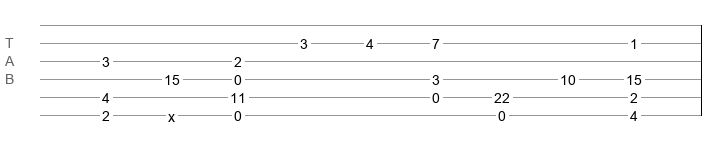0: (234, 108, 242, 118), (234, 72, 242, 82), (432, 90, 440, 100), (498, 108, 506, 118)
1: (630, 36, 638, 46)
10: (560, 72, 576, 82)
11: (230, 90, 246, 100)
15: (164, 72, 180, 82), (626, 72, 642, 82)
2: (102, 108, 110, 118), (234, 54, 242, 64), (630, 90, 638, 100)
22: (494, 90, 510, 100)
3: (102, 54, 110, 64), (300, 36, 308, 46), (432, 72, 440, 82)
4: (102, 90, 110, 100), (366, 36, 374, 46), (630, 108, 638, 118)
7: (432, 36, 440, 46)
x: (168, 109, 175, 117)
